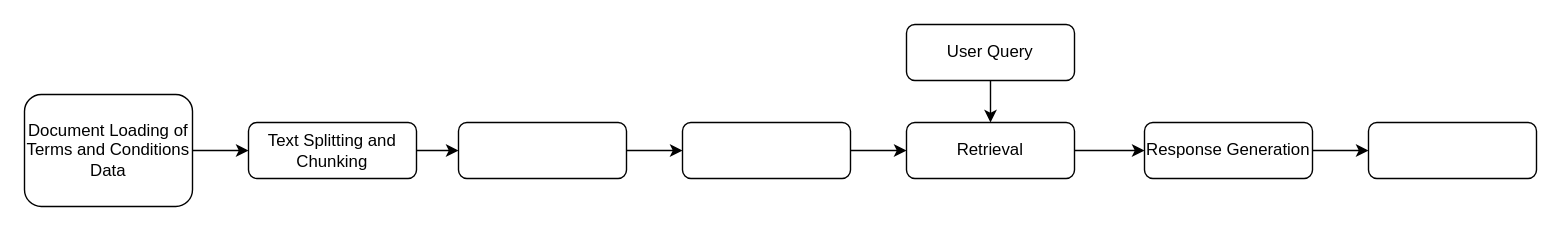
Some shapes in this 1561 by 231 pixel diagram are drawn without their labels. Here are the shapes that lost their labels. From the top down, the box of each, then its label:
(457, 121, 626, 178): Embedded Generation
(681, 121, 850, 178): Vector Storage
(1367, 121, 1536, 178): Output
